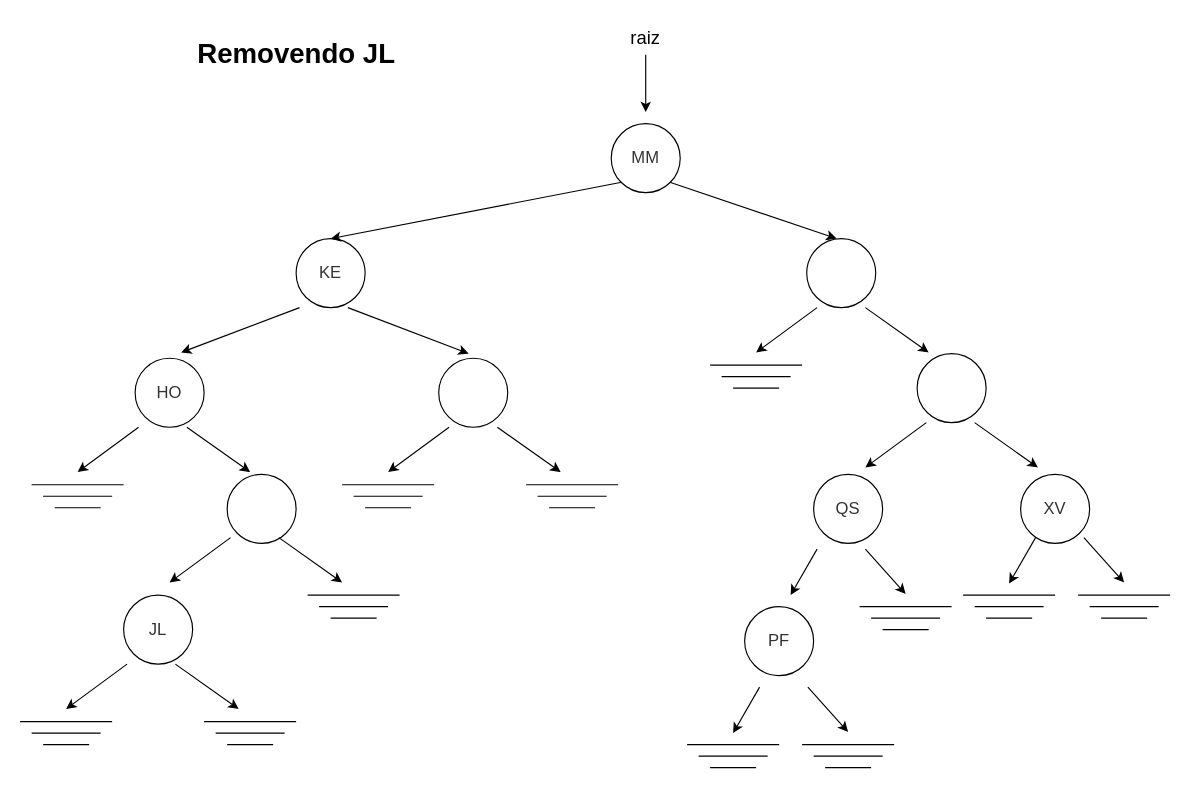
The diagram is 1191 pixels wide and 789 high, and some of its shapes have lost their labels. The centre of each missing label's shape, as x and y in pixels:
"KK" goes at (x=261, y=508).
"ML" goes at (x=473, y=392).
"MU" goes at (x=841, y=272).
"QT" goes at (x=951, y=387).
